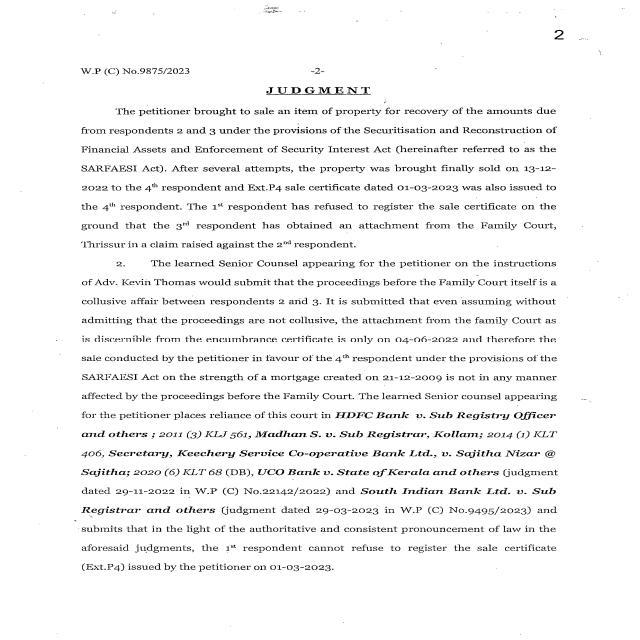page-number: (433, 0, 640, 96)
